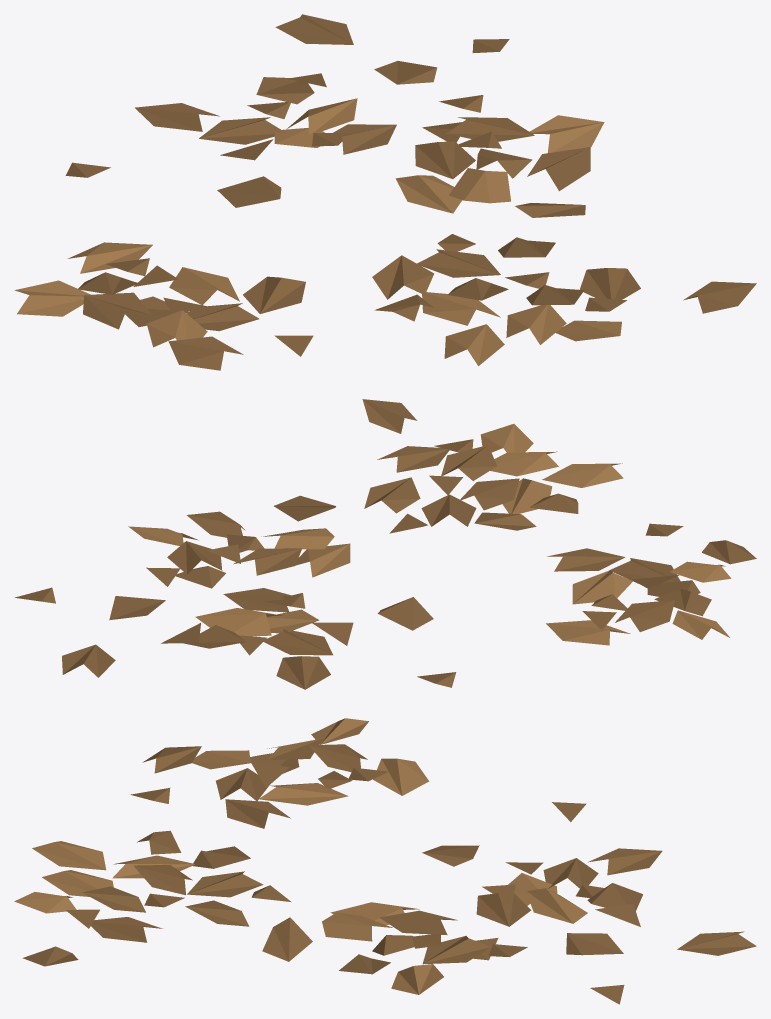
Rendered from SM_Env_Leaves_01.fbx.
The picture shows the model from 3 angles, top to bottom: view 1: azimuth 30°, elevation 25°; view 2: azimuth 150°, elevation 25°; view 3: azimuth 270°, elevation 25°; orthographic projection. The views are drawn at different scales.
Parts seen in each view (by area): view 1: SM_Env_Leaves_01; view 2: SM_Env_Leaves_01; view 3: SM_Env_Leaves_01.
Part boxes in pixels (x1,y1,x2,y2): SM_Env_Leaves_01: (14, 14, 756, 370); SM_Env_Leaves_01: (15, 399, 756, 689); SM_Env_Leaves_01: (14, 718, 756, 1004).
Bounding box in the file's own units: 187 × 6.79 × 206.
1 material, 1 textured.
